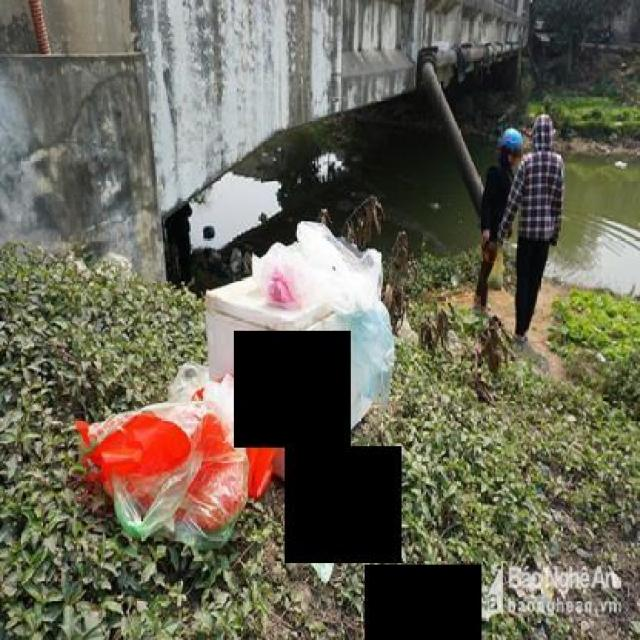plastic bag: (75, 365, 280, 560), (254, 209, 380, 309), (285, 452, 352, 574), (343, 283, 403, 414)
